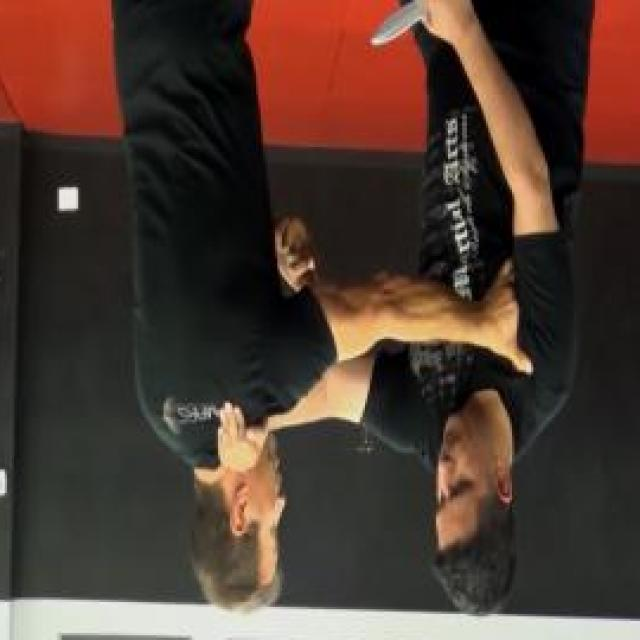knife: (367, 0, 472, 55)
